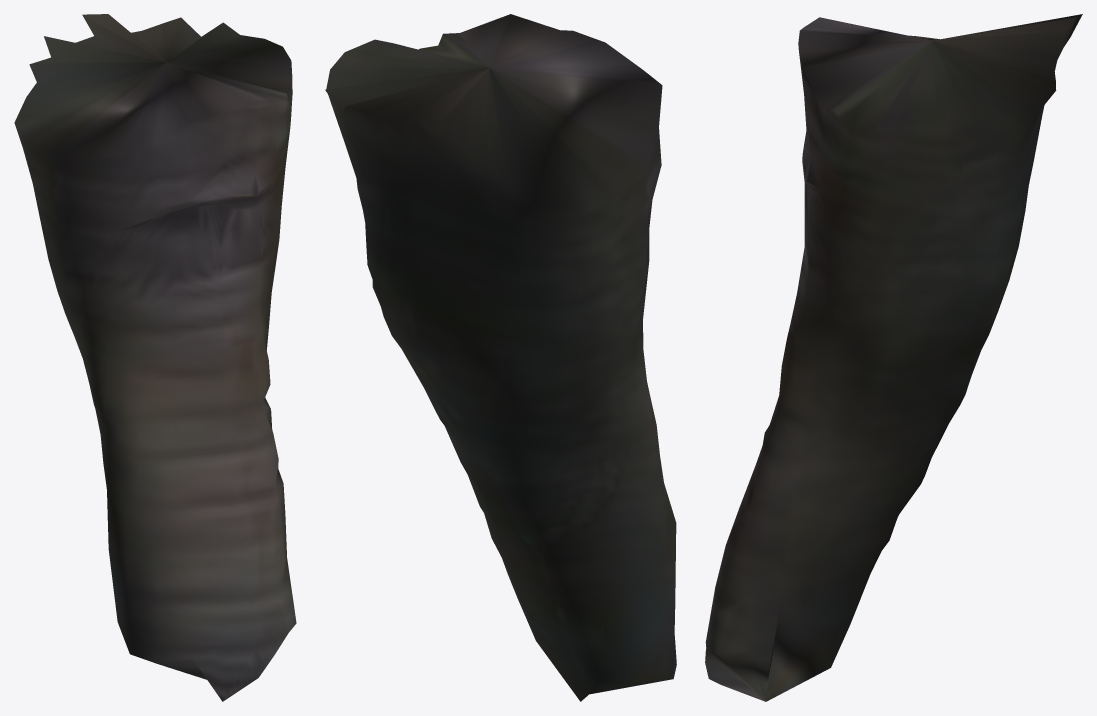
File: trompa_Media.obj
3 renders of one model, left to right at view 1: azimuth 30°, elevation 25°; view 2: azimuth 150°, elevation 25°; view 3: azimuth 270°, elevation 25°, orthographic. The views are drawn at different scales.
Parts seen in each view (by area): view 1: trompa_Media; view 2: trompa_Media; view 3: trompa_Media.
Part boxes in pixels (left/top/right/bottom): trompa_Media: left=14, top=14, right=296, bottom=701; trompa_Media: left=325, top=14, right=676, bottom=701; trompa_Media: left=705, top=14, right=1082, bottom=701.
Bounding box in the file's own units: 27.43 × 62.59 × 31.62.
1 material, 1 textured.
